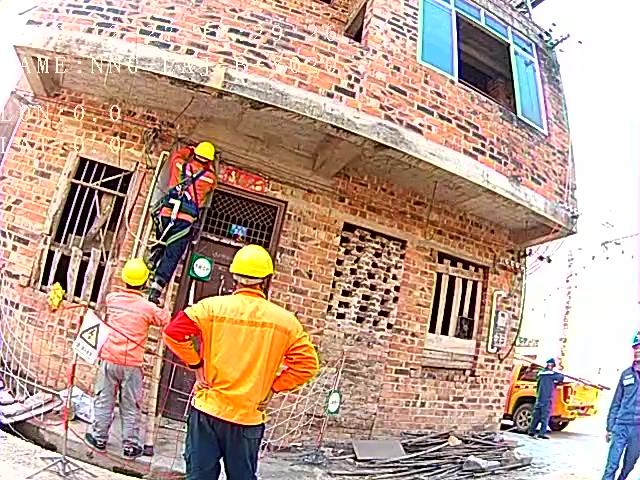badge: (161, 309, 201, 341)
downcloth: (91, 367, 146, 448)
downsuit: (184, 420, 264, 480), (151, 219, 190, 283), (602, 428, 640, 480), (530, 396, 553, 434)
halt: (229, 244, 277, 290), (120, 258, 150, 292), (189, 142, 217, 173), (546, 357, 558, 371)
hand: (192, 363, 210, 392), (257, 388, 275, 412)
intosign: (324, 389, 343, 415)
person: (162, 242, 320, 480), (92, 256, 156, 457), (147, 138, 221, 289), (598, 326, 640, 480), (528, 355, 567, 436)
safebelt: (148, 149, 219, 249)
upsuit: (610, 362, 640, 424), (537, 370, 564, 397)
worksign: (189, 252, 215, 284)
yupsuit: (162, 286, 321, 409), (99, 287, 172, 362), (159, 142, 217, 215)
